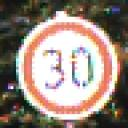speed_limit_30: (14, 13, 120, 122)
